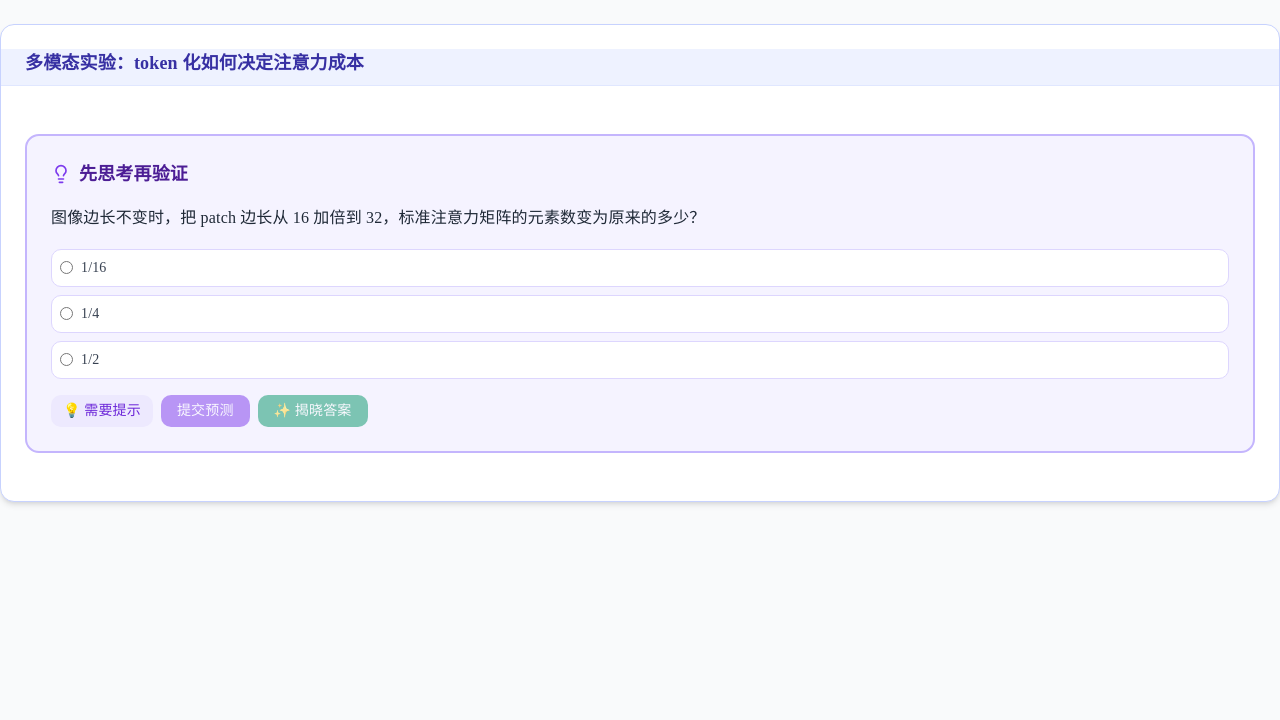
Test: chapter 9 teaching-ready learning loop › gates the multimodal token experiment until a prediction is submitted
Click the radio button labelled "1/16". click: (66, 268)
box: [60,261,73,274]
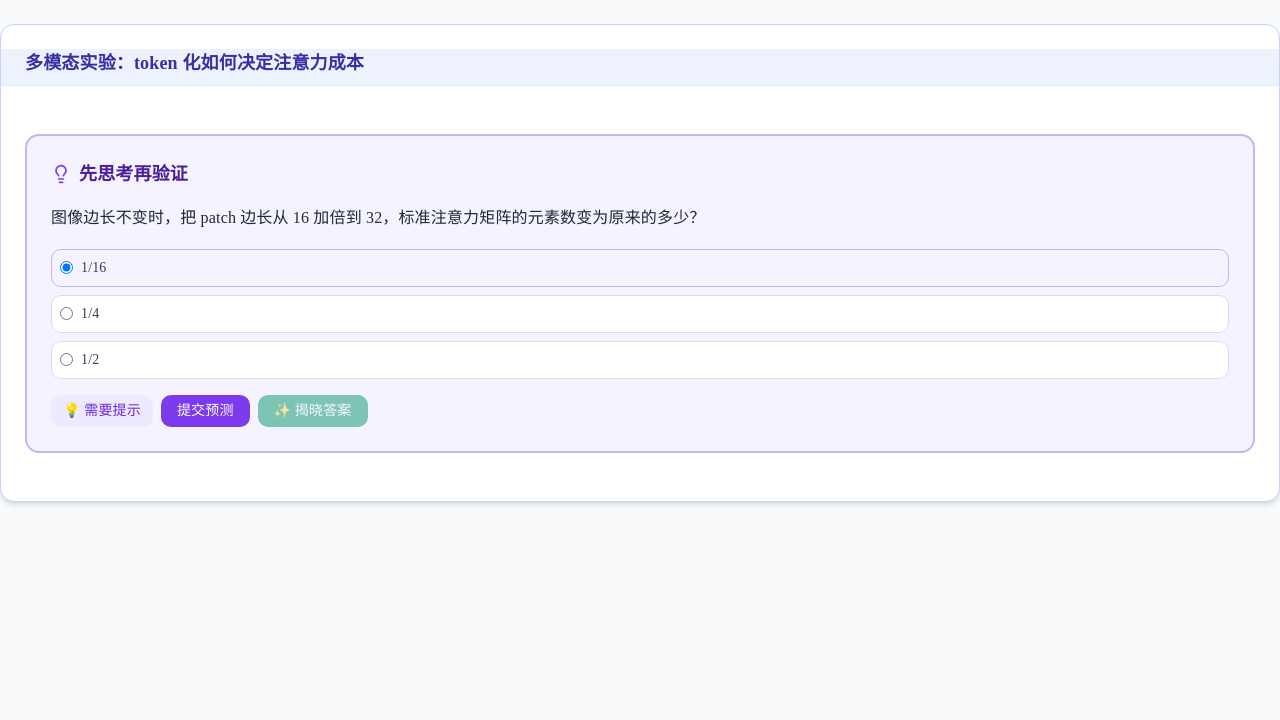
Click the button "提交预测". click: (205, 411)
box: [161,395,250,427]
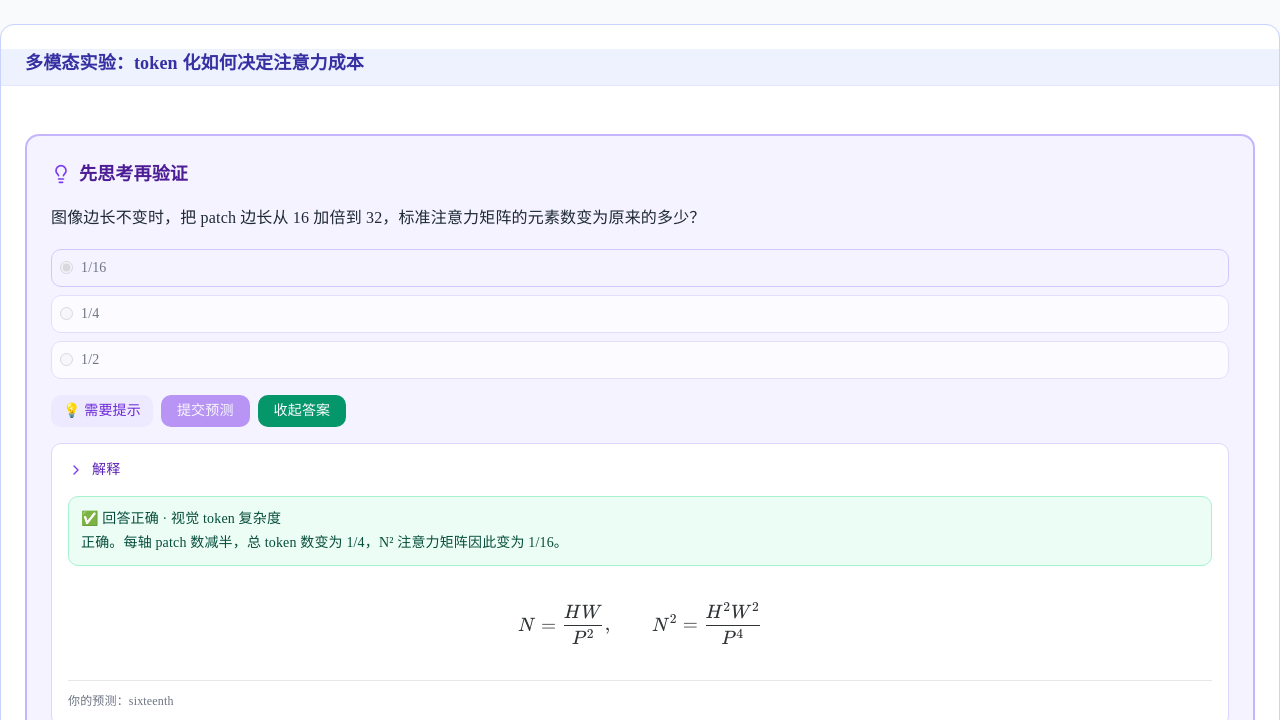
Check: the text "✅ 回答正确 · 视觉 token 复杂度" is shown, box [81,511,281,526]
